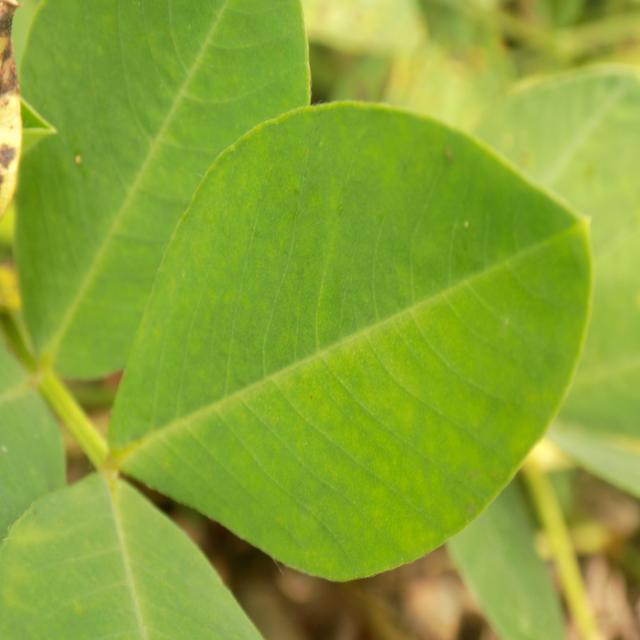Ground nut_healthy: (101, 102, 591, 582)
